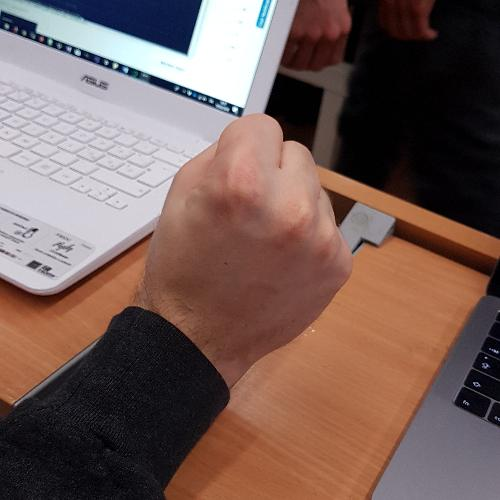rock: (132, 109, 366, 370)
